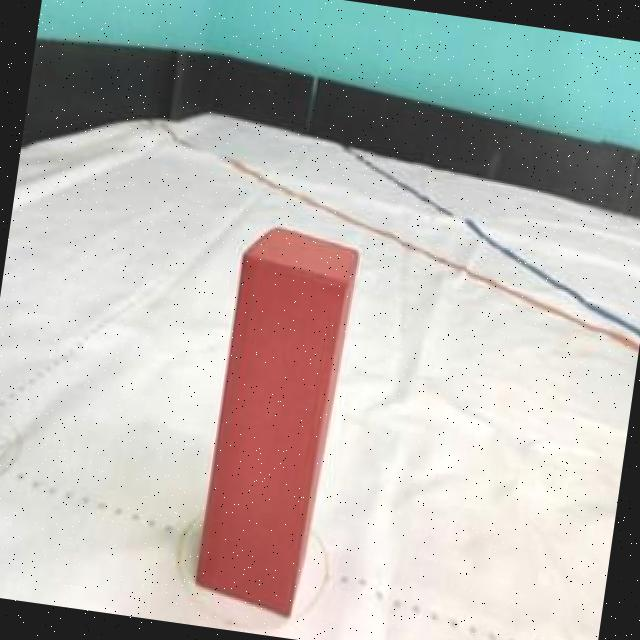redbox: (190, 222, 363, 621)
